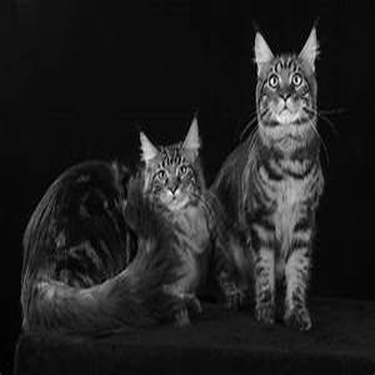cat: (19, 119, 229, 341), (205, 31, 318, 338)
